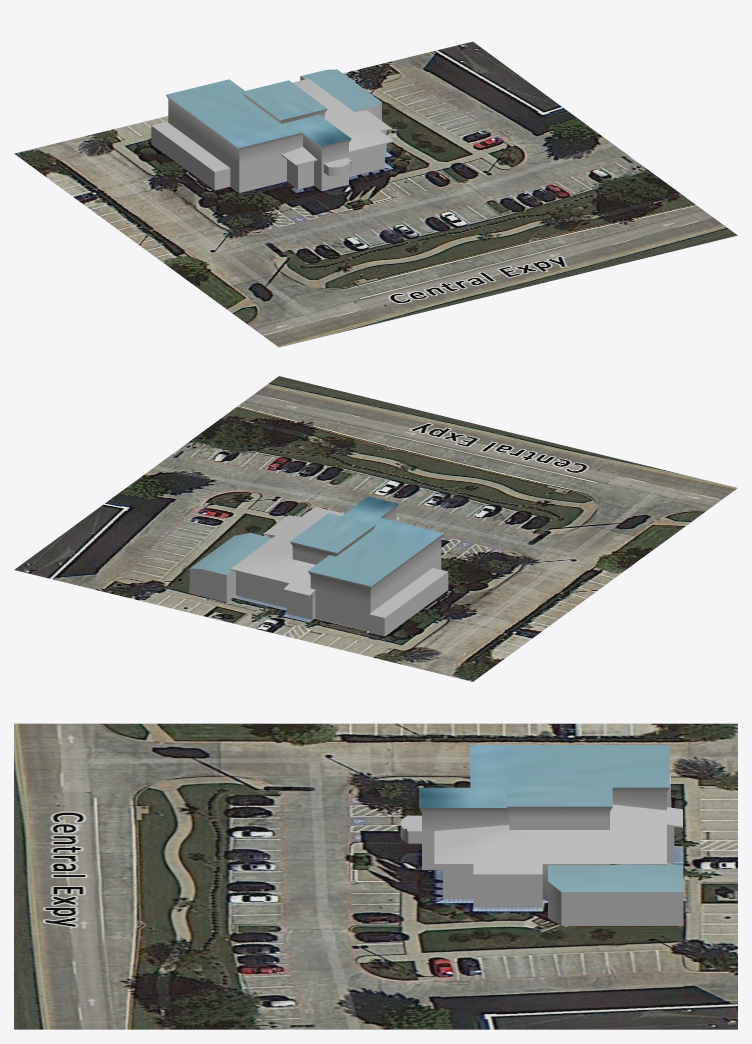
The model's file is PizzaPlace.FBX.
3 views of the same model, one above another, from view 1: azimuth 30°, elevation 25°; view 2: azimuth 150°, elevation 25°; view 3: azimuth 270°, elevation 25° (orthographic). The views are drawn at different scales.
Visible parts, largest first — view 1: untitled; view 2: untitled; view 3: untitled.
Boxes of the visible parts, box(x1,y1,x2,y2) form: untitled: box(14, 41, 737, 347); untitled: box(14, 376, 737, 681); untitled: box(14, 723, 737, 1029).
Size of the model in its own units: 10 by 2.23 by 10.
